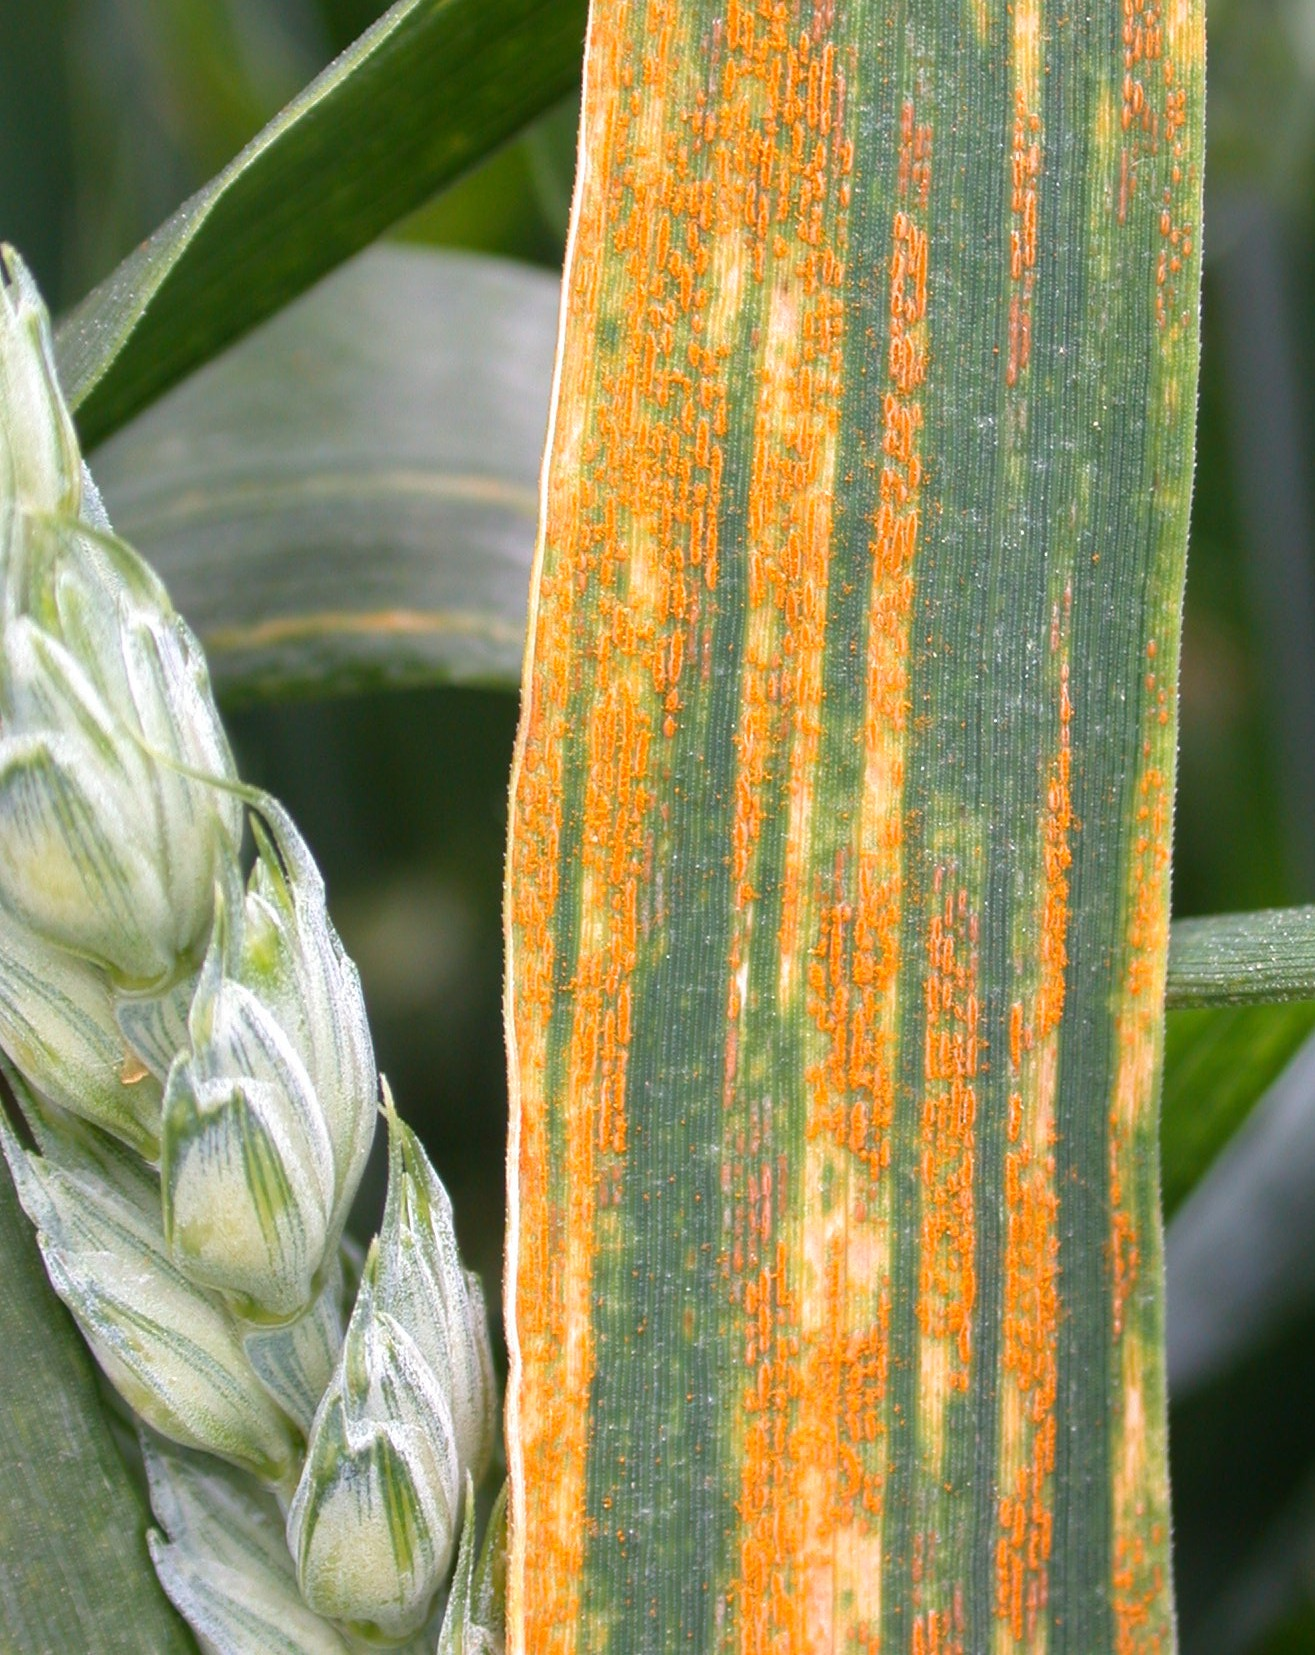Leaf: (565, 16, 1196, 1627)
Yellow Rust: (728, 32, 907, 1648), (596, 53, 770, 1269), (907, 732, 1075, 1622)
